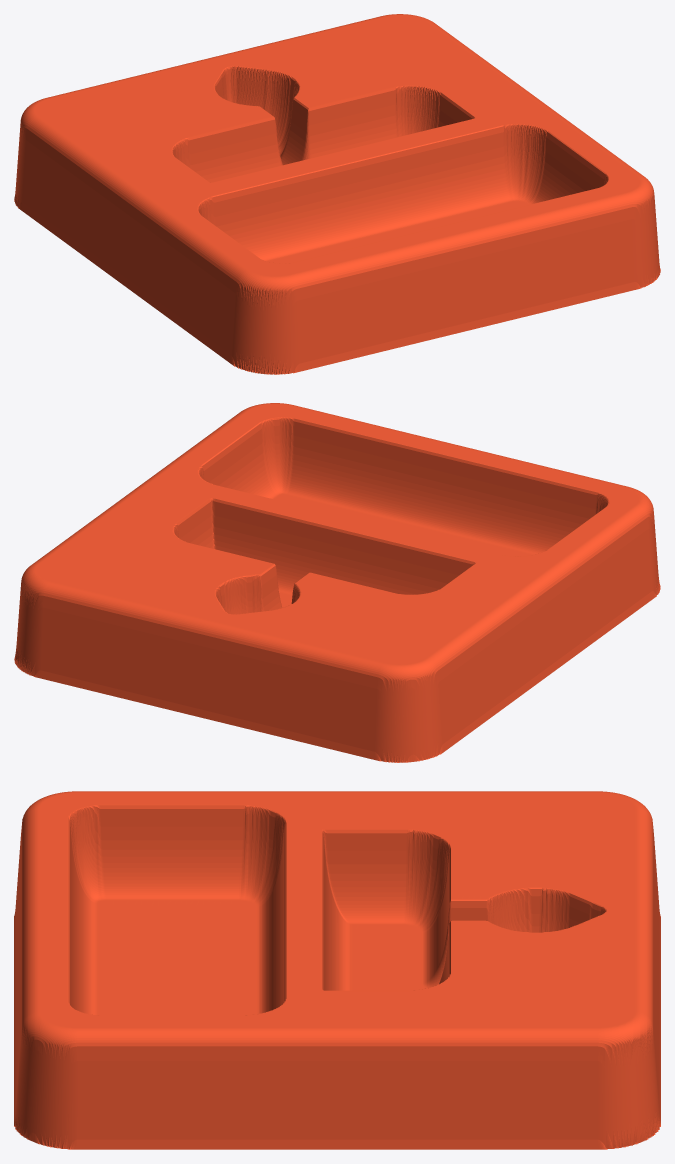
The model's file is mold.glb.
The picture shows the model from 3 angles, top to bottom: view 1: azimuth 30°, elevation 25°; view 2: azimuth 150°, elevation 25°; view 3: azimuth 270°, elevation 25°; orthographic projection. The views are drawn at different scales.
Parts seen in each view (by area): view 1: geometry_0; view 2: geometry_0; view 3: geometry_0.
Boxes of the visible parts, left/top/right/bottom form: geometry_0: left=14, top=14, right=660, bottom=374; geometry_0: left=14, top=403, right=660, bottom=762; geometry_0: left=14, top=791, right=660, bottom=1149.
Bounding box in the file's own units: 0.0866 × 0.0175 × 0.0924.
